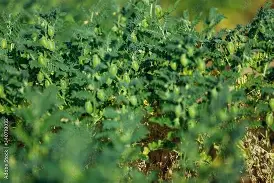crops: (0, 14, 269, 177), (8, 85, 67, 142)
